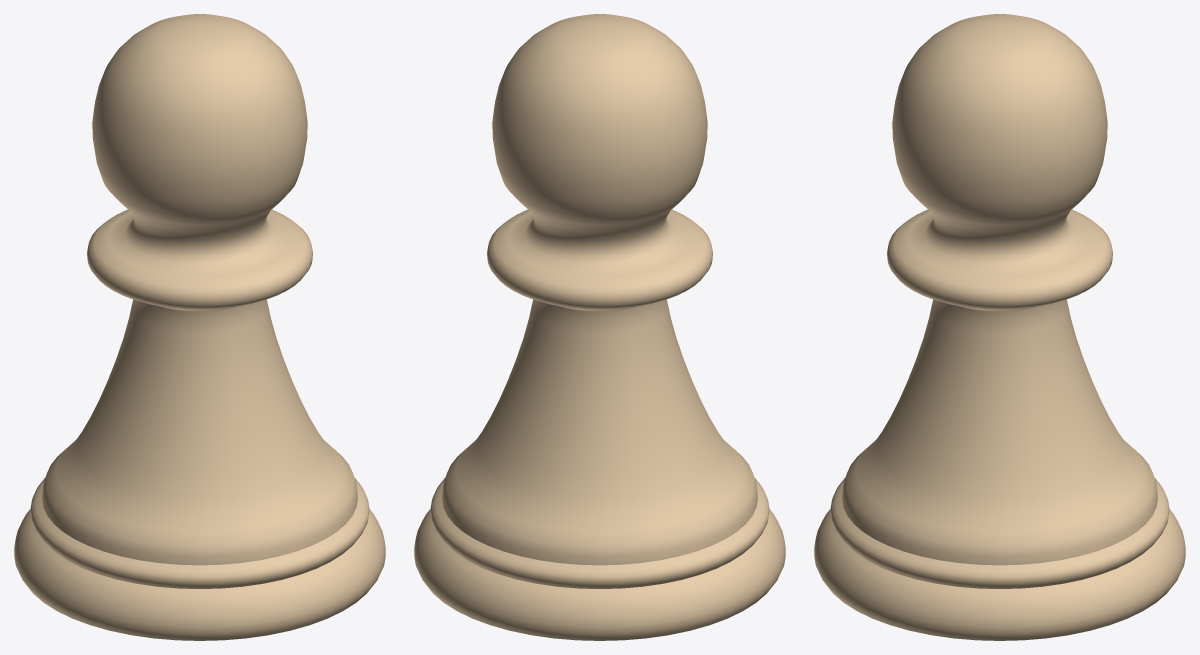
File: white-pawn.glb
3 views of the same model, side by side, from view 1: azimuth 30°, elevation 25°; view 2: azimuth 150°, elevation 25°; view 3: azimuth 270°, elevation 25° (orthographic).
Parts seen in each view (by area): view 1: white-pawn.001; view 2: white-pawn.001; view 3: white-pawn.001.
Part boxes in pixels (<box>): white-pawn.001: <box>14,14,385,640</box>; white-pawn.001: <box>414,14,785,640</box>; white-pawn.001: <box>814,14,1185,640</box>.
Bounding box in the file's own units: 0.52 × 0.83 × 0.52.
